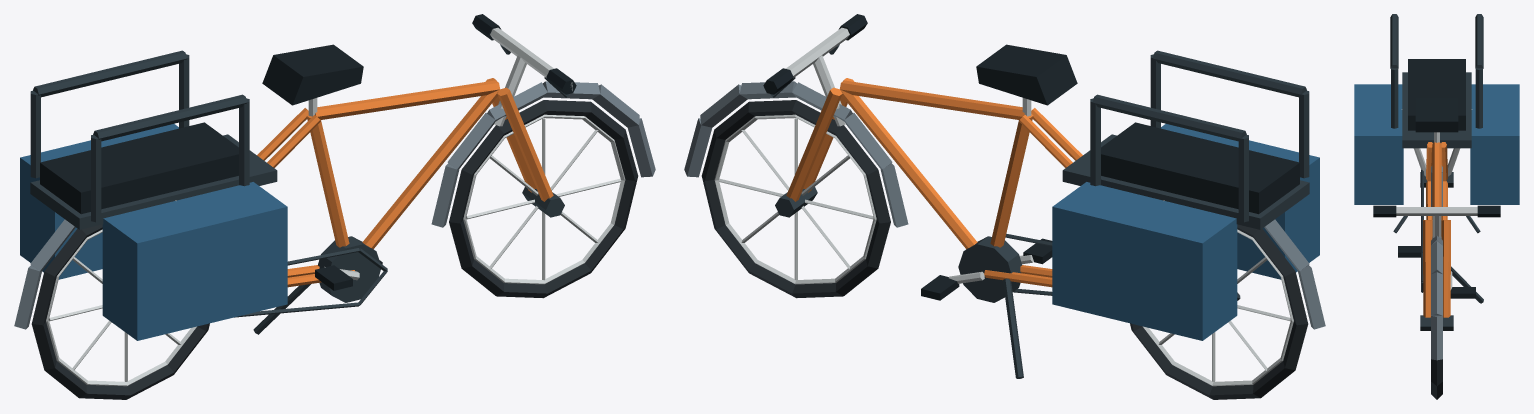
The model's file is b03_longtail_family_cargo_bicycle.glb.
3 renders of one model, left to right at view 1: azimuth 30°, elevation 25°; view 2: azimuth 150°, elevation 25°; view 3: azimuth 270°, elevation 25°, orthographic. The views are drawn at different scales.
Parts seen in each view (by area): view 1: b03_longtail_family_cargo_bicycle; view 2: b03_longtail_family_cargo_bicycle; view 3: b03_longtail_family_cargo_bicycle.
Part boxes in pixels (<box>): b03_longtail_family_cargo_bicycle: <box>14,14,655,399</box>; b03_longtail_family_cargo_bicycle: <box>684,14,1325,399</box>; b03_longtail_family_cargo_bicycle: <box>1354,14,1519,399</box>.
Bounding box in the file's own units: 2.34 × 1.06 × 0.74.
